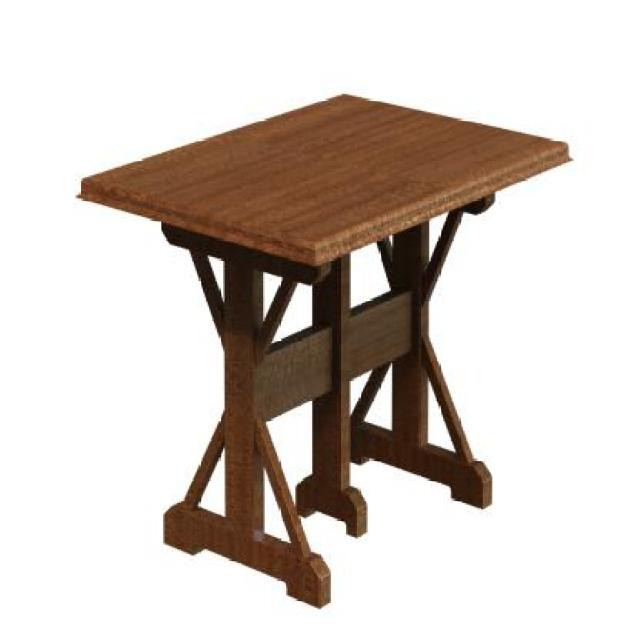table: (78, 92, 572, 610)
